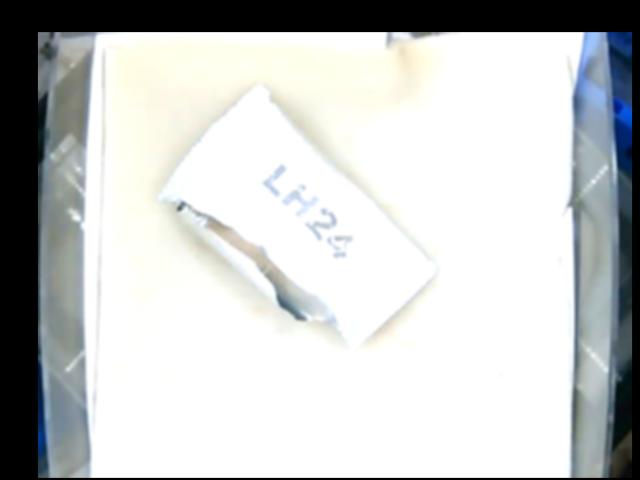Medicine: (157, 84, 436, 349)
